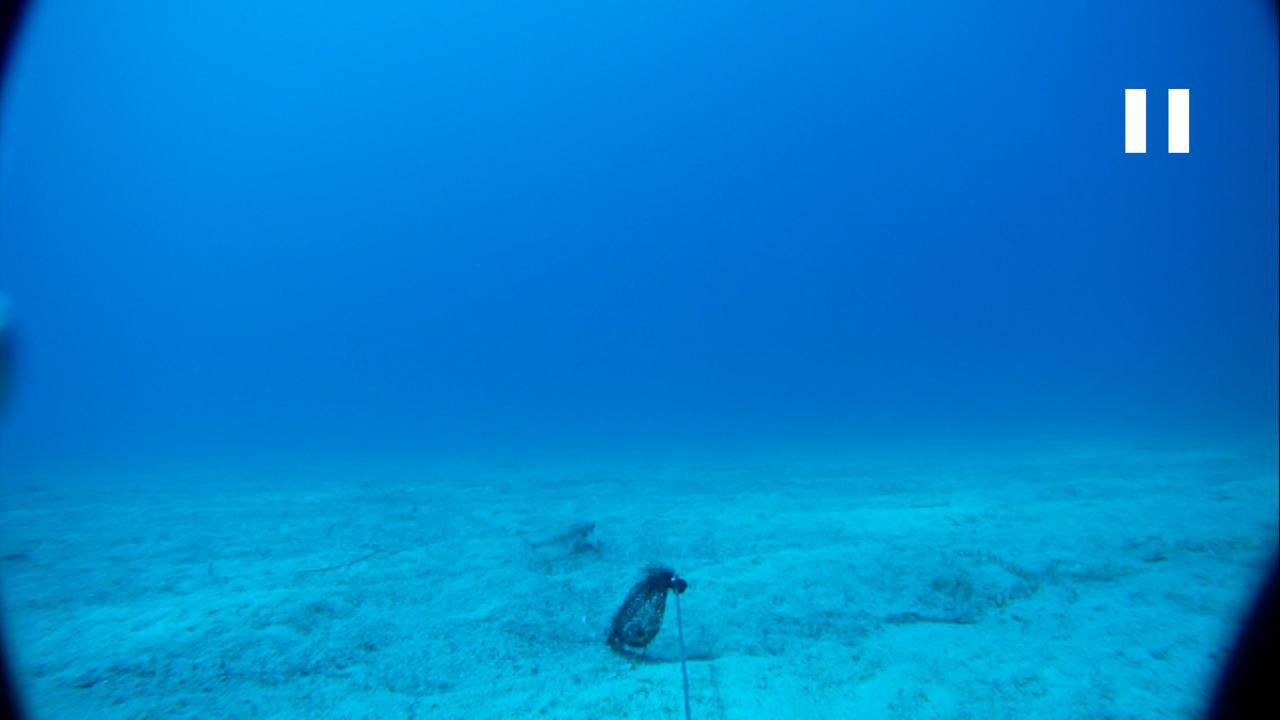dactylopterus: (516, 512, 601, 561)
